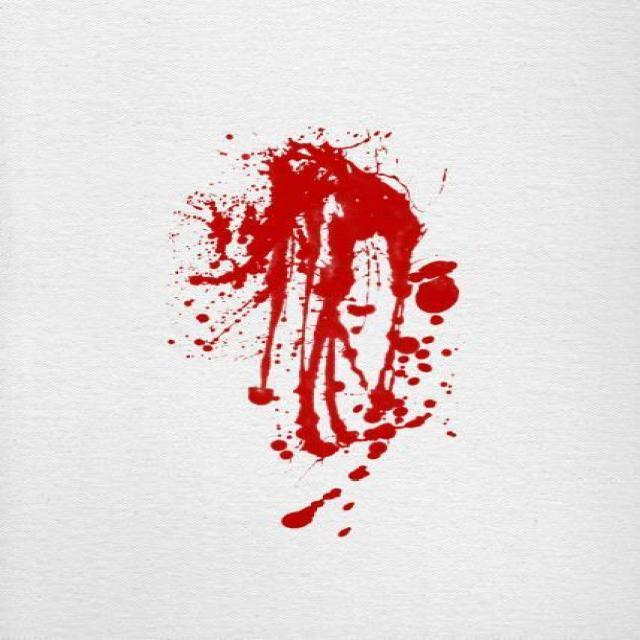flood: (151, 121, 467, 534)
